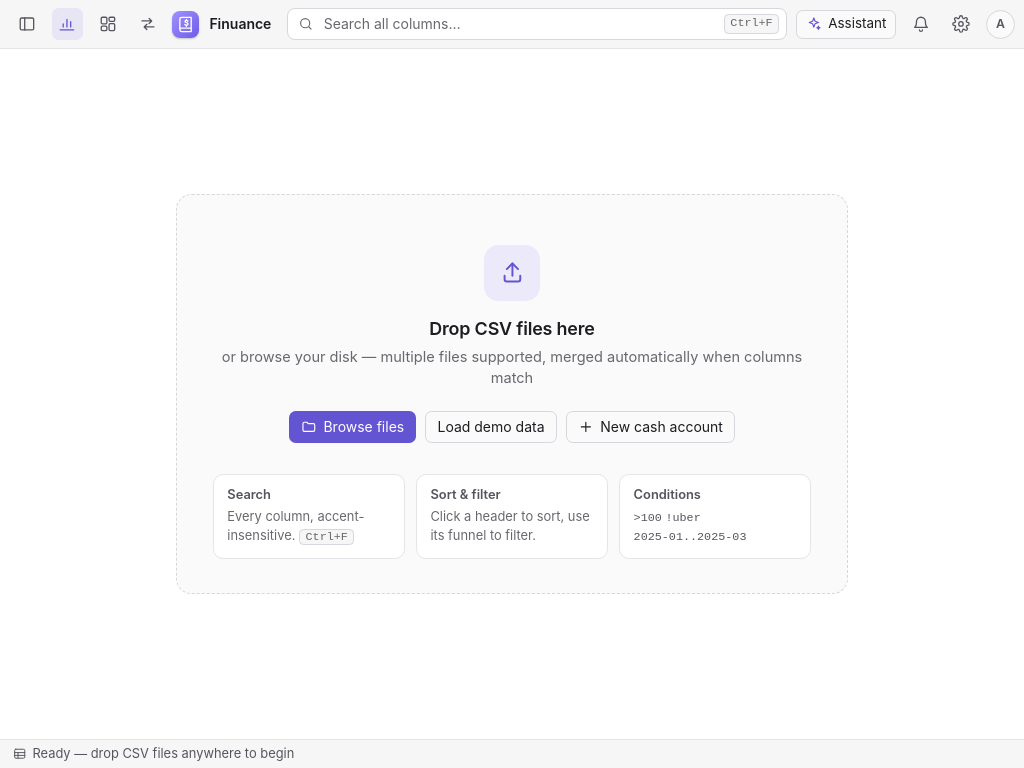
Test: shell › keeps the quick settings to looks, the shortcuts and All settings
Click the button named "Settings" at (961, 24), box x1=946 y1=8 x2=977 y2=40
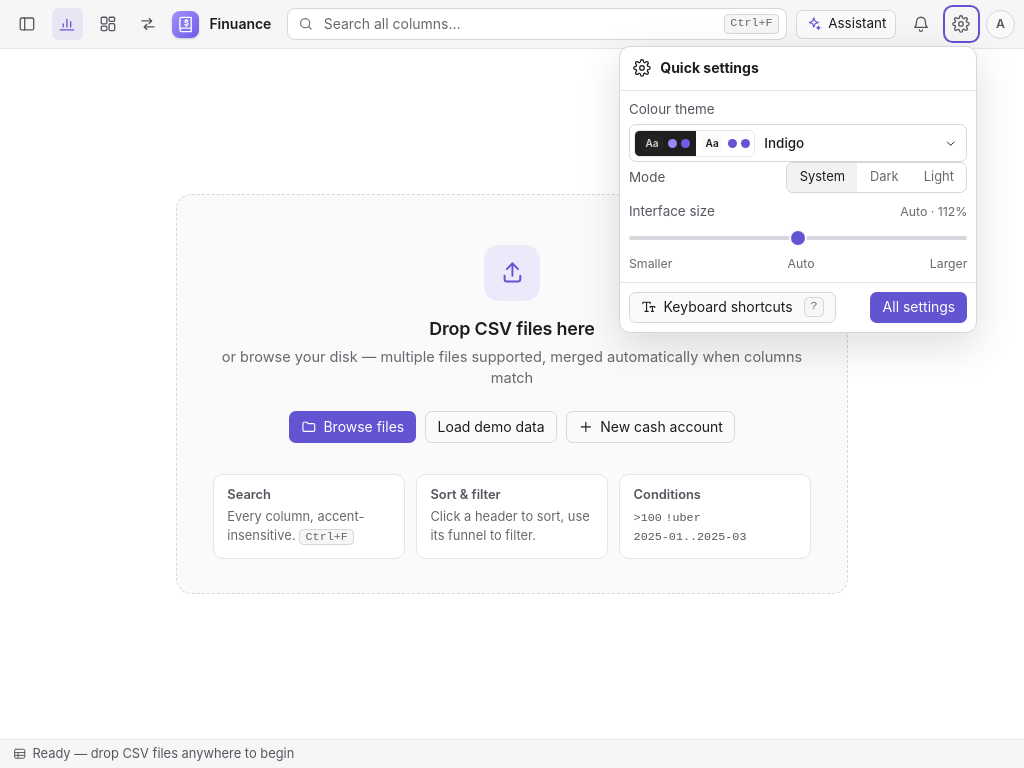
Check: the slider labelled "Interface size" is shown, box x1=629 y1=227 x2=968 y2=249
Click the button "All settings" at (919, 307), box x1=870 y1=292 x2=967 y2=323
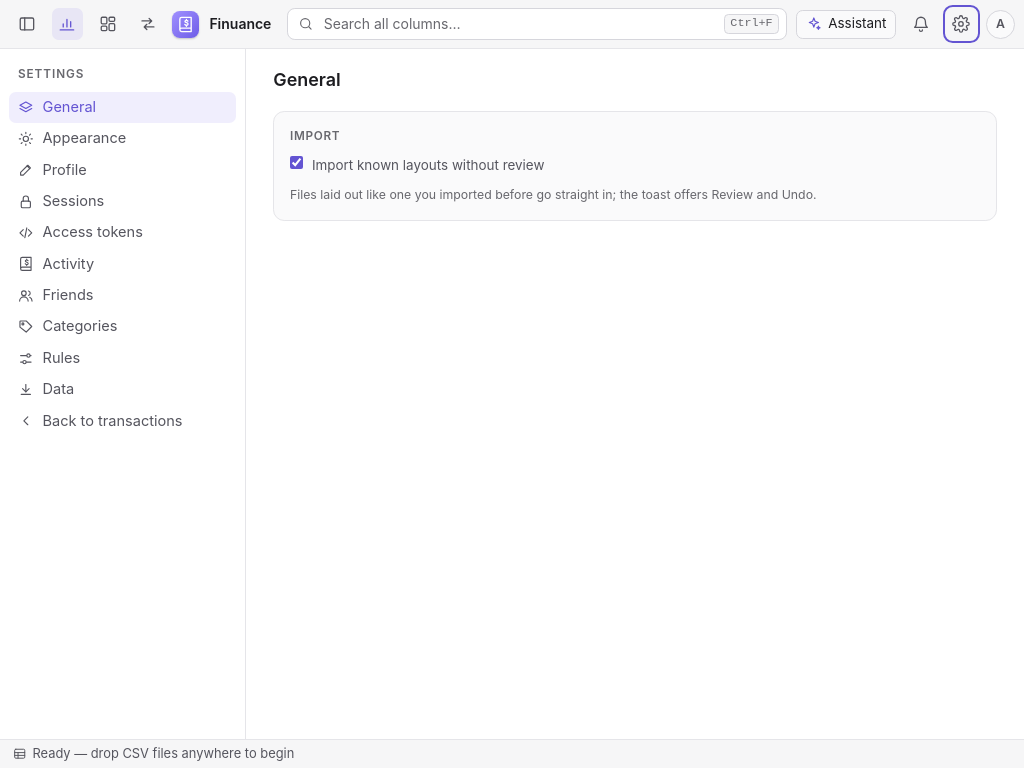
Click the button named "Settings" at (961, 24), box x1=946 y1=8 x2=977 y2=40
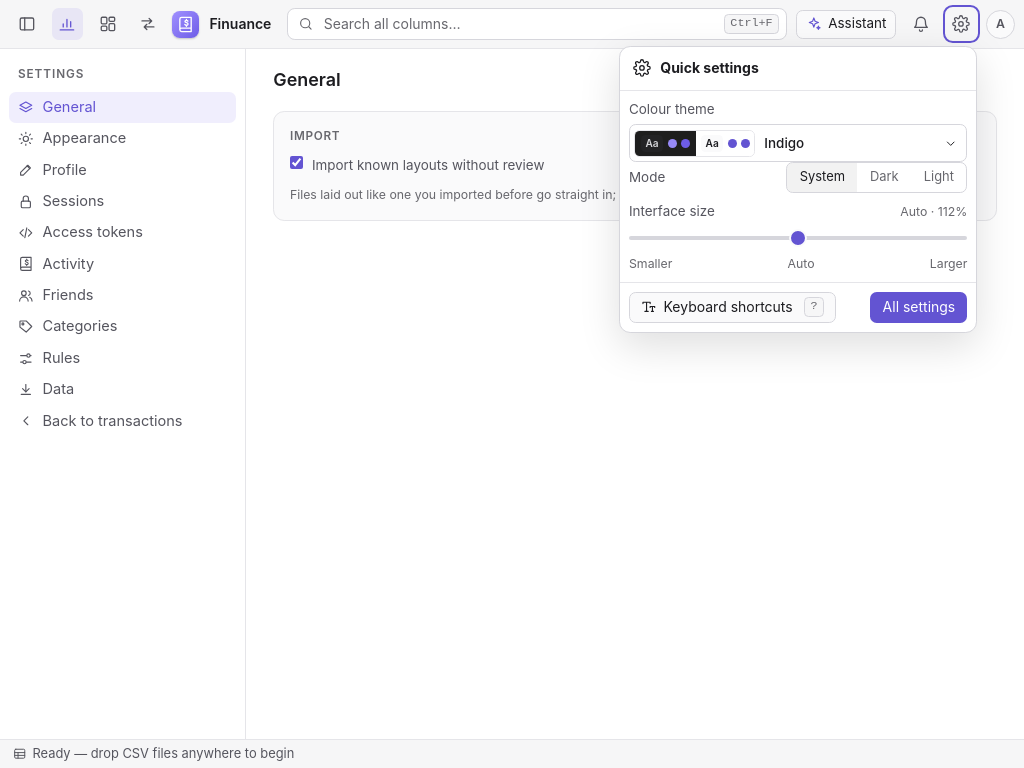
Click the button "Keyboard shortcuts ?" at (733, 307), box x1=629 y1=292 x2=836 y2=323
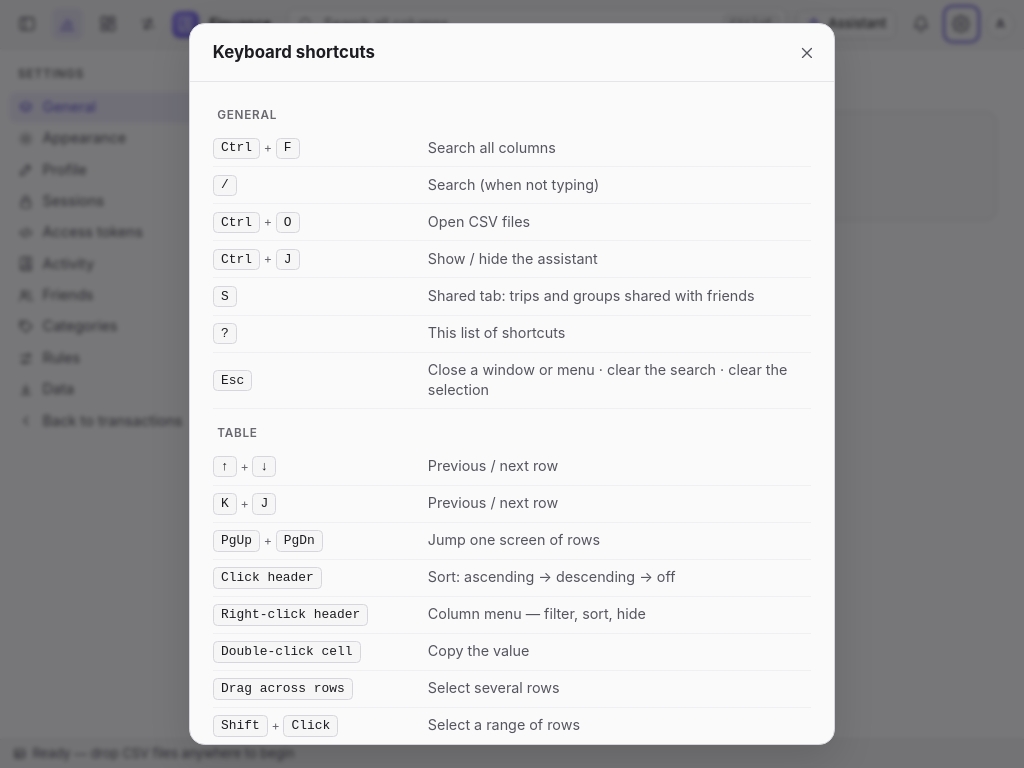
Check: the dialog "Keyboard shortcuts" is shown, box x1=189 y1=23 x2=834 y2=745
